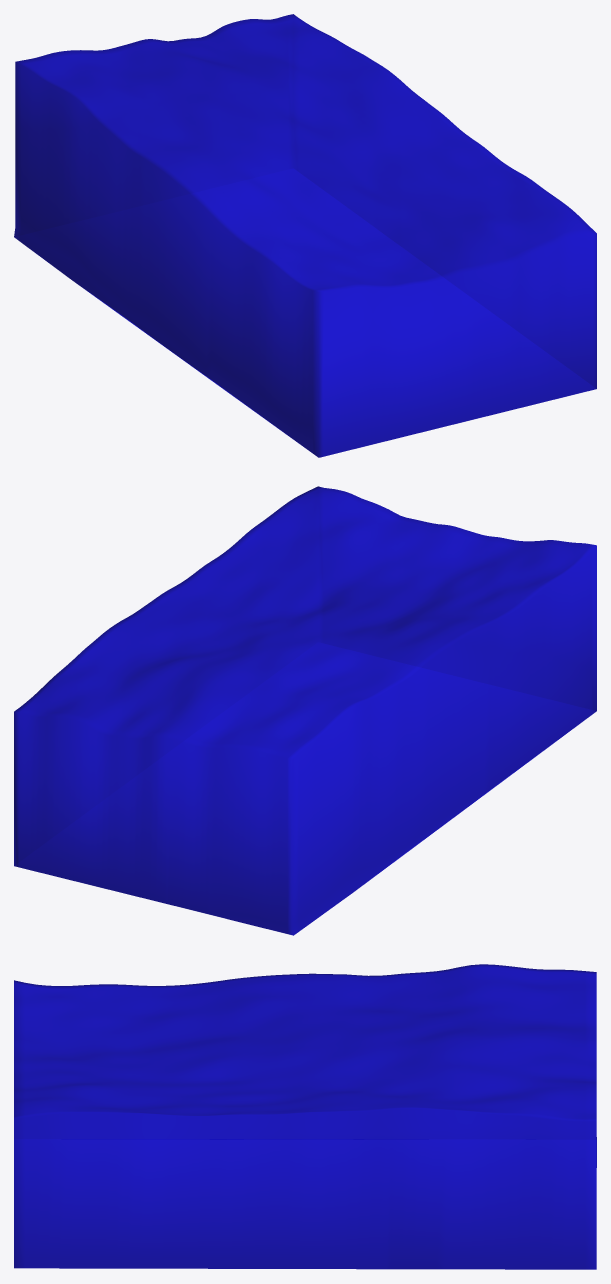
Rendered from water.obj.
3 renders of one model, top to bottom at view 1: azimuth 30°, elevation 25°; view 2: azimuth 150°, elevation 25°; view 3: azimuth 270°, elevation 25°, orthographic. The views are drawn at different scales.
Visible parts, largest first — view 1: water; view 2: water; view 3: water.
Boxes of the visible parts, box(x1,y1,x2,y2) form: water: box(14, 14, 596, 457); water: box(14, 486, 596, 935); water: box(14, 964, 596, 1269).
Bounding box in the file's own units: 2.57 × 1.61 × 4.84.
